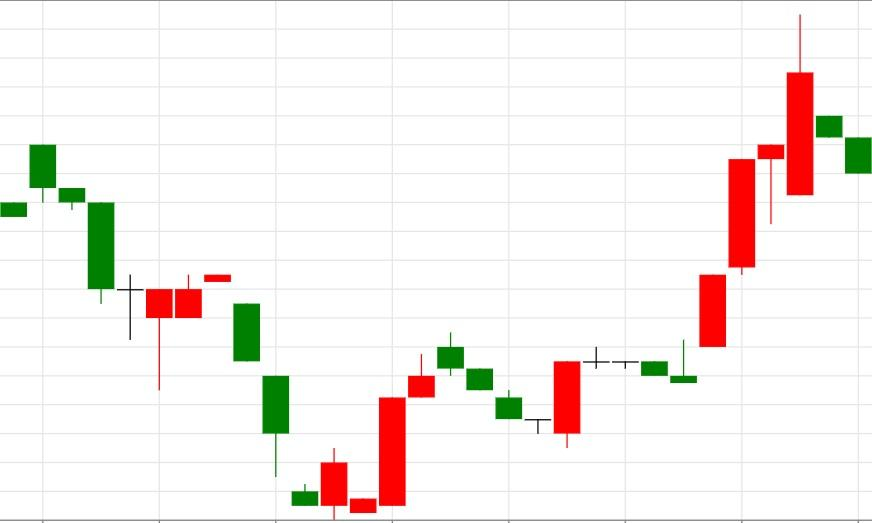bullish_engulfing_rise: (204, 274, 349, 521)
three_black_crows_fall: (349, 332, 523, 513)
